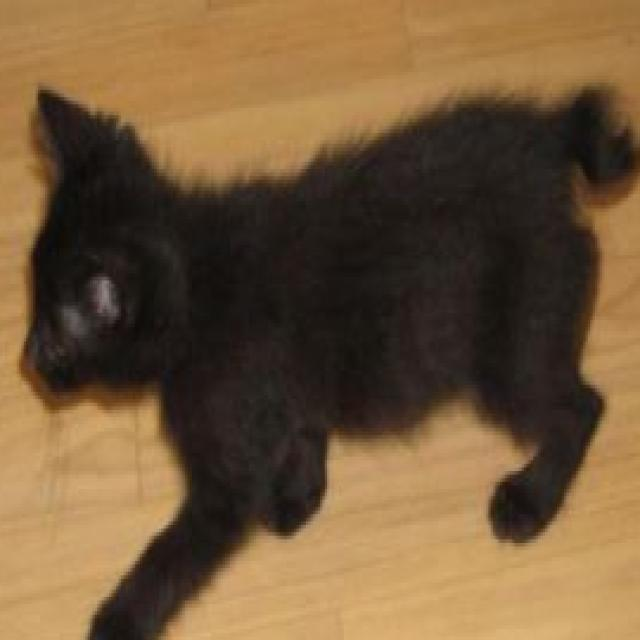American Bobtail: (16, 72, 640, 640)
